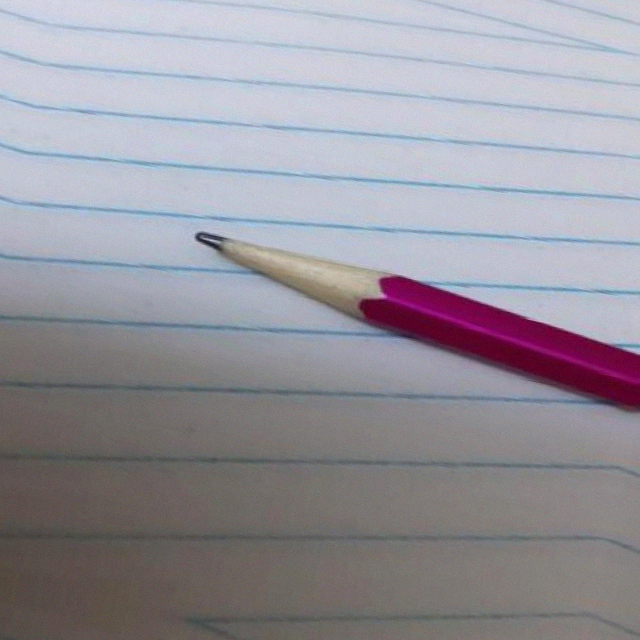pencil: (188, 218, 411, 317)
